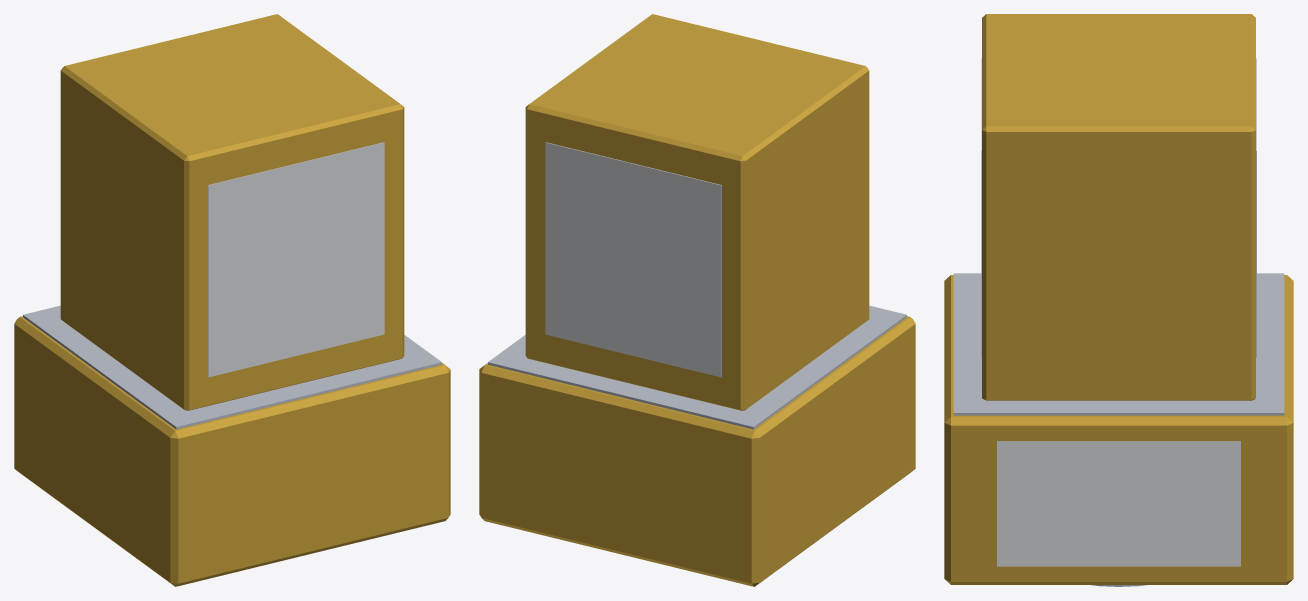
Rendered from deep.glb.
3 views of the same model, side by side, from view 1: azimuth 30°, elevation 25°; view 2: azimuth 150°, elevation 25°; view 3: azimuth 270°, elevation 25° (orthographic). The views are drawn at different scales.
Parts seen in each view (by area): view 1: deep_avionics_mod, deep_prop_module, deep_av_silver_yn, deep_transition; view 2: deep_avionics_mod, deep_prop_module, deep_av_silver_yp, deep_transition; view 3: deep_avionics_mod, deep_prop_module, deep_prop_rad_xp, deep_transition.
Part boxes in pixels (<box>): deep_avionics_mod: <box>60,14,404,410</box>; deep_prop_module: <box>14,316,450,586</box>; deep_av_silver_yn: <box>208,142,384,377</box>; deep_transition: <box>23,305,441,429</box>; deep_avionics_mod: <box>525,14,869,410</box>; deep_prop_module: <box>479,316,915,586</box>; deep_av_silver_yp: <box>545,142,721,377</box>; deep_transition: <box>488,305,906,429</box>; deep_avionics_mod: <box>982,14,1255,400</box>; deep_prop_module: <box>944,275,1293,584</box>; deep_prop_rad_xp: <box>997,441,1240,566</box>; deep_transition: <box>953,273,1284,415</box>.
Bounding box in the file's own units: 1.61 × 2.4 × 1.6.
